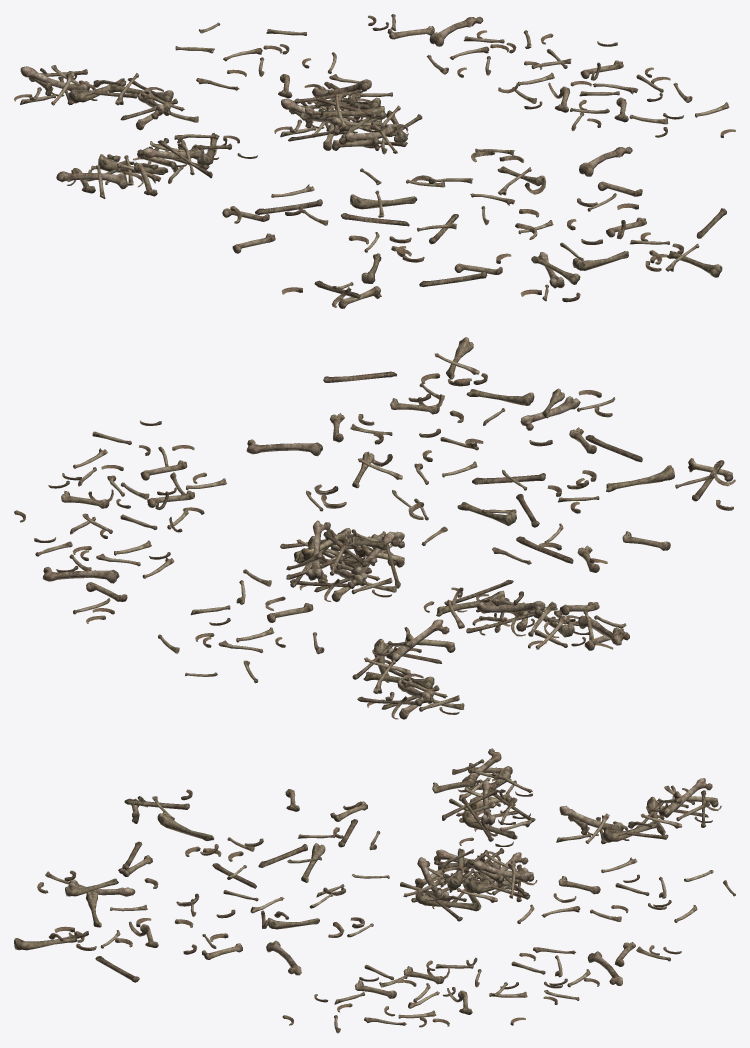
File: huesos.fbx
The picture shows the model from 3 angles, top to bottom: view 1: azimuth 30°, elevation 25°; view 2: azimuth 150°, elevation 25°; view 3: azimuth 270°, elevation 25°; orthographic projection. The views are drawn at different scales.
Parts seen in each view (by area): view 1: KR_IL_TN_Bones3_St, KR_IL_TN_Bones1_St, KR_IL_TN_Bones4_St, KR_IL_TN_Bones5_St, KR_IL_TN_Bones6_St, KR_IL_TN_Bones2_St; view 2: KR_IL_TN_Bones3_St, KR_IL_TN_Bones4_St, KR_IL_TN_Bones1_St, KR_IL_TN_Bones5_St, KR_IL_TN_Bones6_St, KR_IL_TN_Bones2_St; view 3: KR_IL_TN_Bones3_St, KR_IL_TN_Bones1_St, KR_IL_TN_Bones4_St, KR_IL_TN_Bones5_St, KR_IL_TN_Bones6_St, KR_IL_TN_Bones2_St.
Boxes of the visible parts, x1,y1,x2,y2 form: KR_IL_TN_Bones3_St: (222,146,726,308); KR_IL_TN_Bones1_St: (274,79,422,154); KR_IL_TN_Bones4_St: (368,14,735,137); KR_IL_TN_Bones5_St: (56,133,257,198); KR_IL_TN_Bones6_St: (14,65,198,130); KR_IL_TN_Bones2_St: (175,22,392,98); KR_IL_TN_Bones3_St: (246,337,735,572); KR_IL_TN_Bones4_St: (14,420,226,623); KR_IL_TN_Bones1_St: (280,520,404,601); KR_IL_TN_Bones5_St: (423,579,629,650); KR_IL_TN_Bones6_St: (352,619,464,719); KR_IL_TN_Bones2_St: (158,569,324,683); KR_IL_TN_Bones3_St: (14,789,389,982); KR_IL_TN_Bones1_St: (400,848,537,921); KR_IL_TN_Bones4_St: (282,942,681,1033); KR_IL_TN_Bones5_St: (432,748,535,846); KR_IL_TN_Bones6_St: (556,778,721,844); KR_IL_TN_Bones2_St: (517,857,735,923).
Bounding box in the file's own units: 1406 × 103 × 1586.
1 material, 1 textured.
